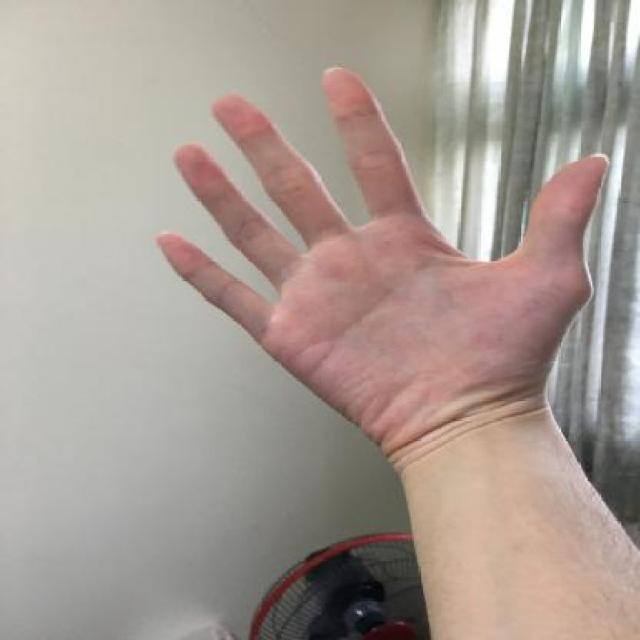bare_hand: (144, 50, 618, 476)
